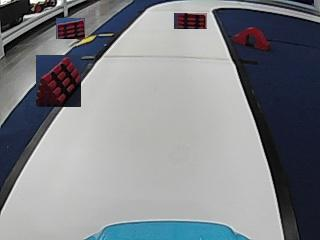bridge: (234, 26, 269, 48)
